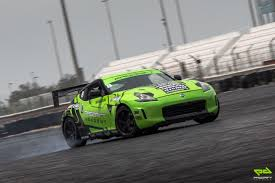car: (60, 69, 223, 147)
